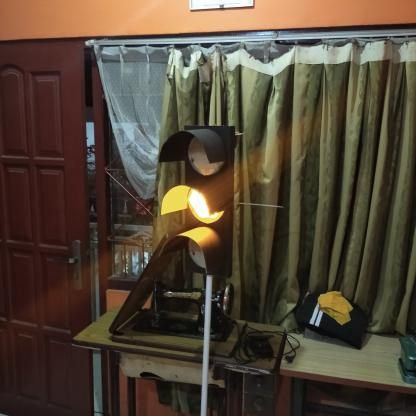yellow: (160, 128, 233, 280)
